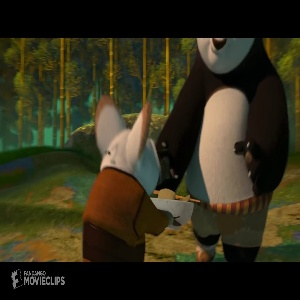po: (158, 36, 290, 263)
shifu: (78, 93, 183, 263)
